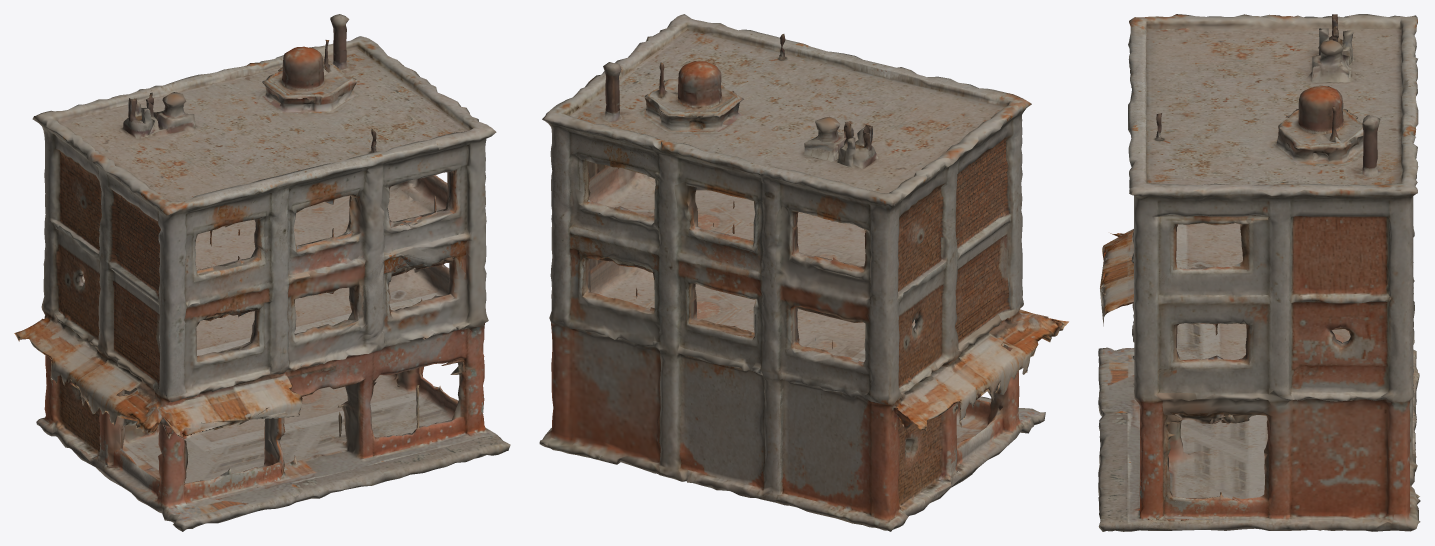
Rendered from Bldg_LowRise.glb.
3 views of the same model, side by side, from view 1: azimuth 30°, elevation 25°; view 2: azimuth 150°, elevation 25°; view 3: azimuth 270°, elevation 25° (orthographic). The views are drawn at different scales.
Visible parts, largest first — view 1: texture_mapping; view 2: texture_mapping; view 3: texture_mapping.
Boxes of the visible parts, <box> form: texture_mapping: <box>14,14,510,531</box>; texture_mapping: <box>539,14,1068,531</box>; texture_mapping: <box>1098,14,1420,531</box>.
Size of the model in its own units: 0.9981 by 0.9591 by 0.7167.
Materials: 1 (1 with a texture image).
